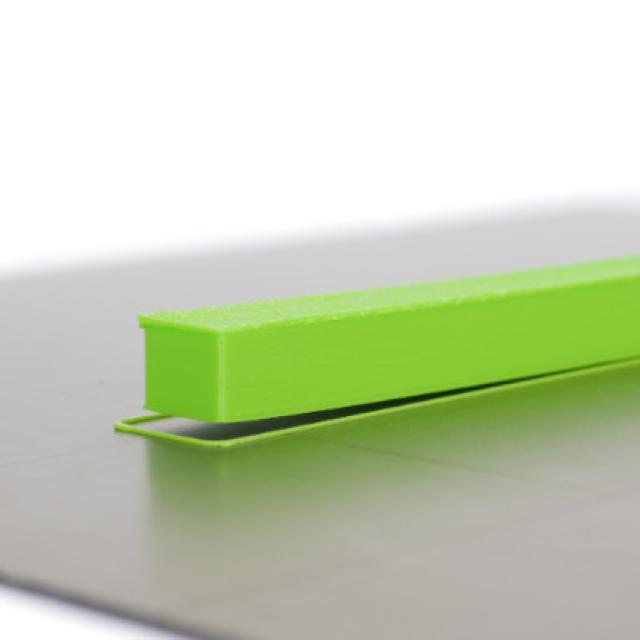Warping: (120, 393, 463, 456)
